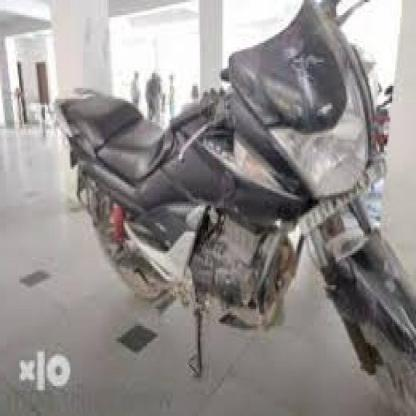bike: (53, 0, 416, 416)
